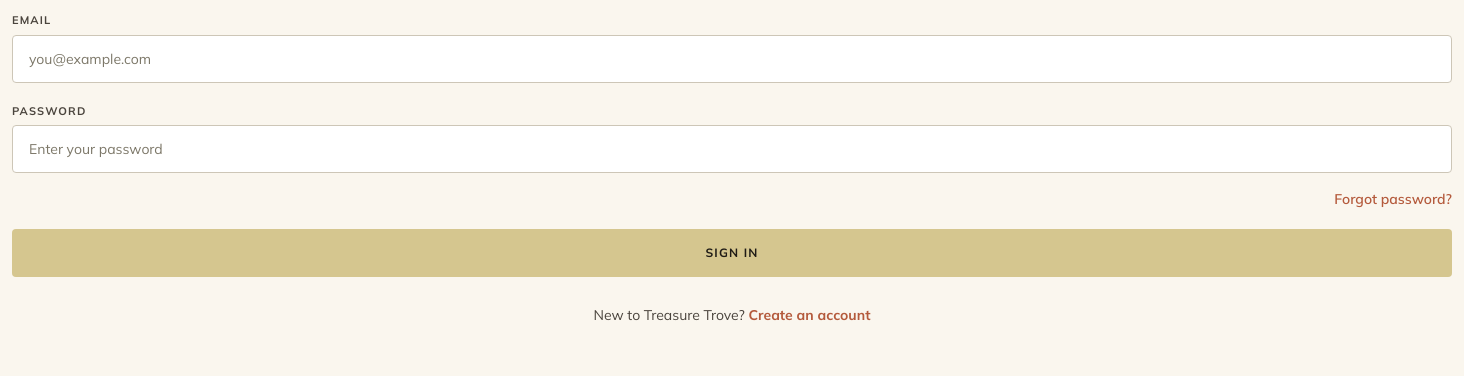
LoginForm › shows the locked screen with a countdown when ACCOUNT_LOCKED is returned
Type "a@b.com" into the field with test id "login-email-input" at (732, 58), box [12,34,1452,82]
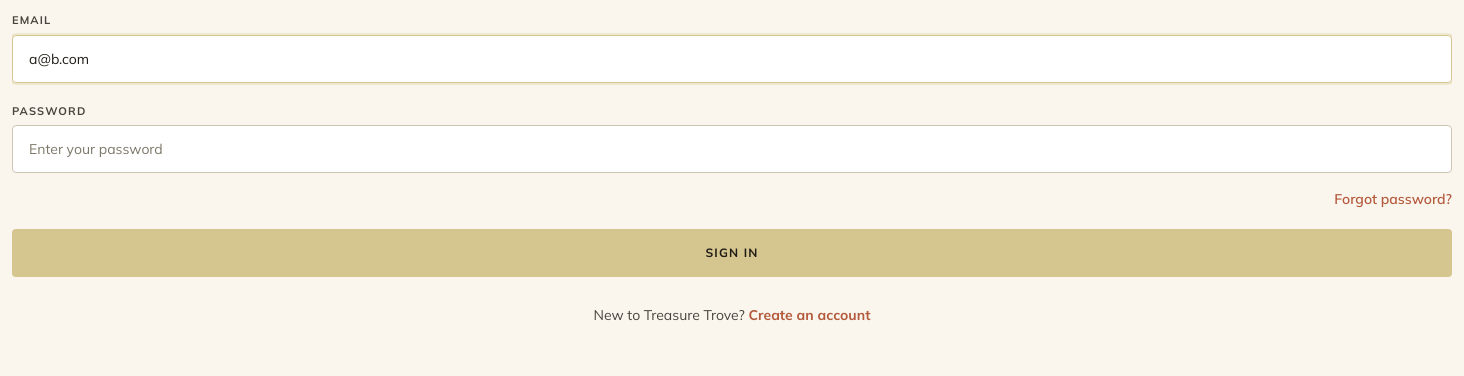
Type "whatever" into the password field with test id "login-password-input" at (732, 149), box [12,125,1452,173]
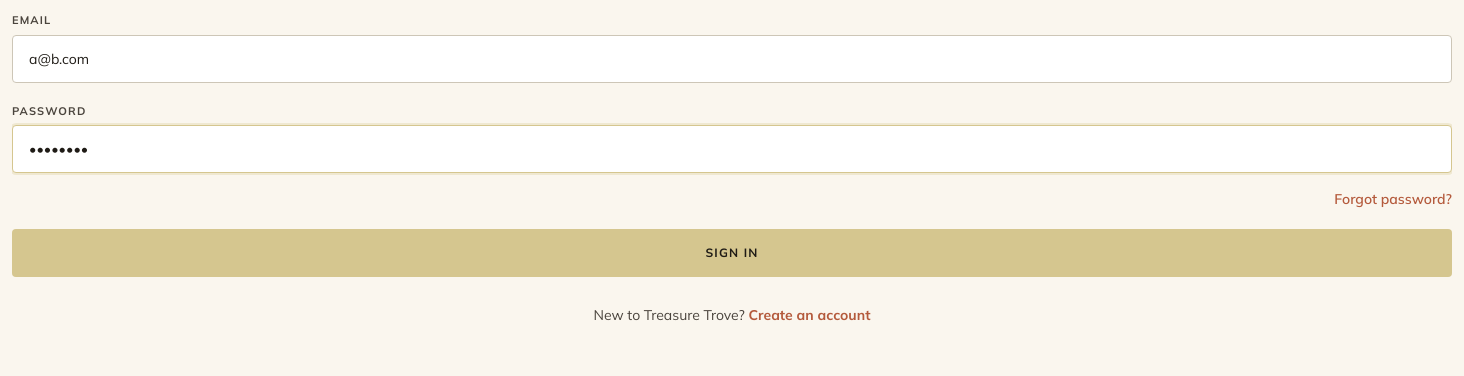
Click the button with test id "login-submit-button" at (732, 253), box [12,229,1452,277]
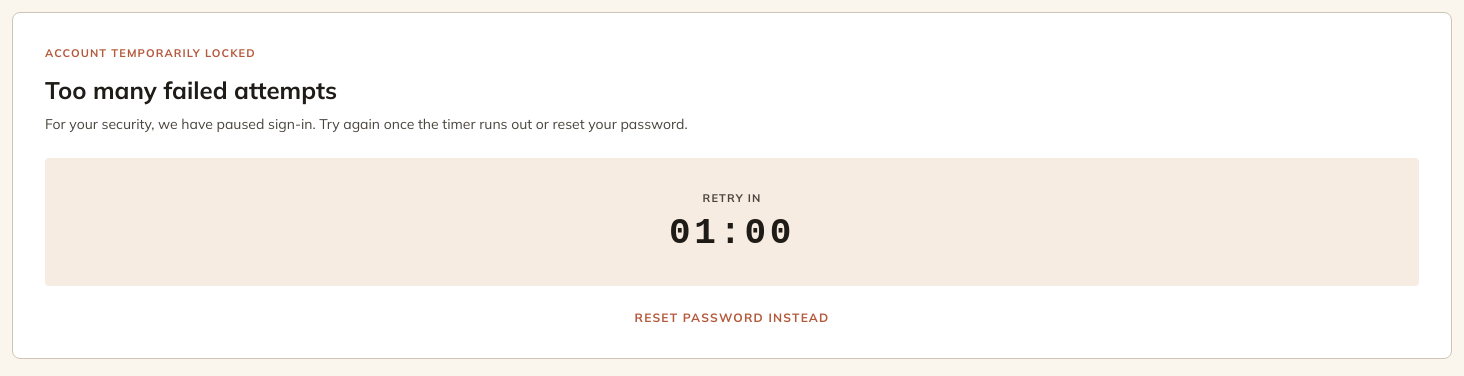
Expected: the element with test id "account-locked-screen" is shown
Expected: the element with test id "lock-countdown" is shown, [45,158,1419,286]
